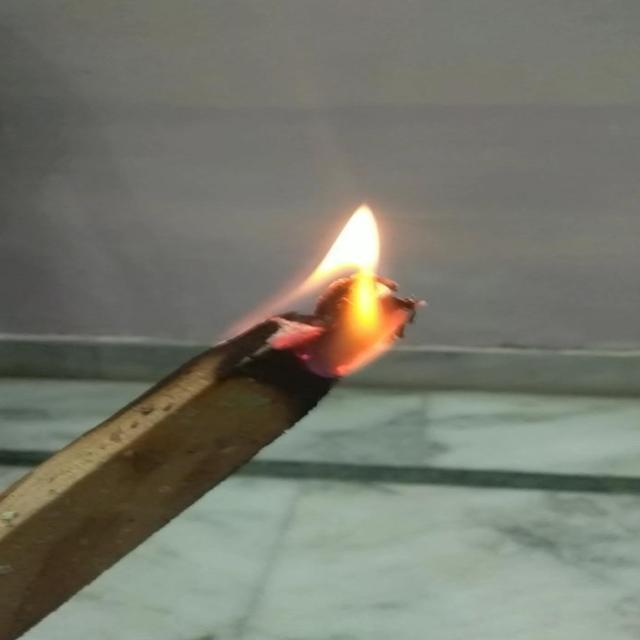smoke: (222, 196, 448, 378)
